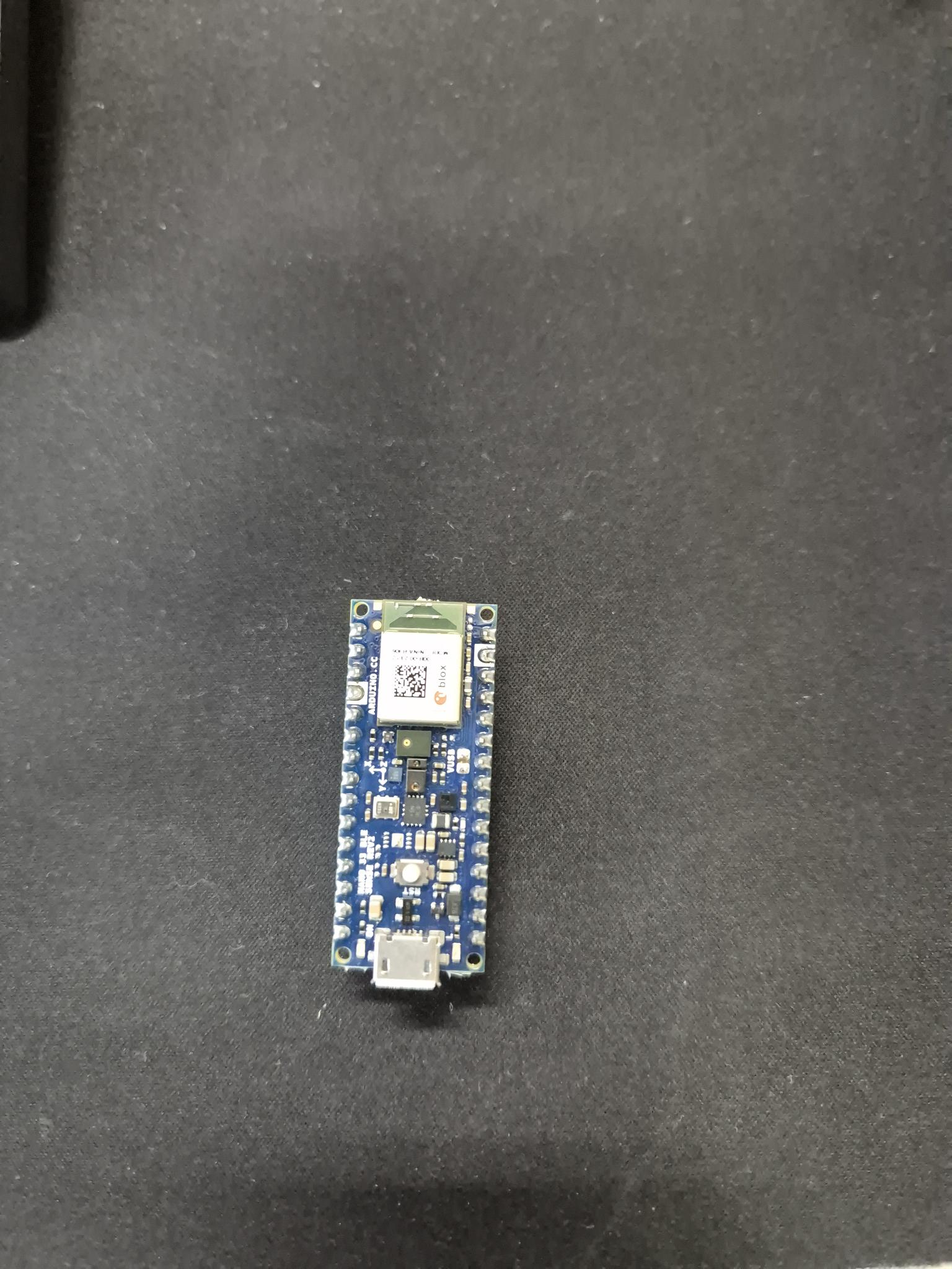arduino-nano-ble-sense: (332, 599, 496, 989)
